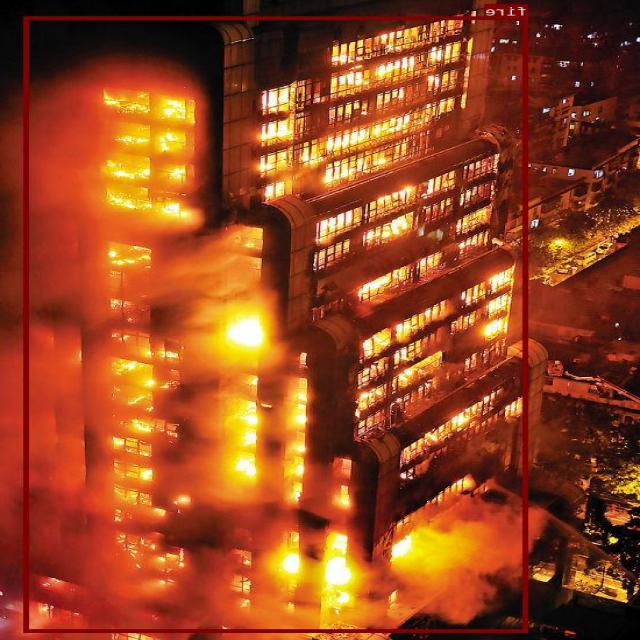fire: (25, 16, 529, 632)
